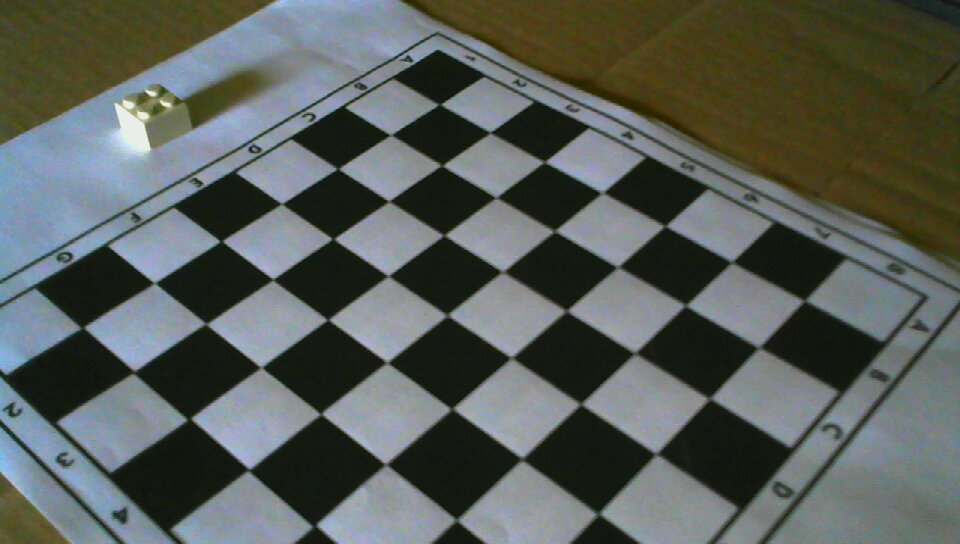wp: (113, 83, 194, 150)
